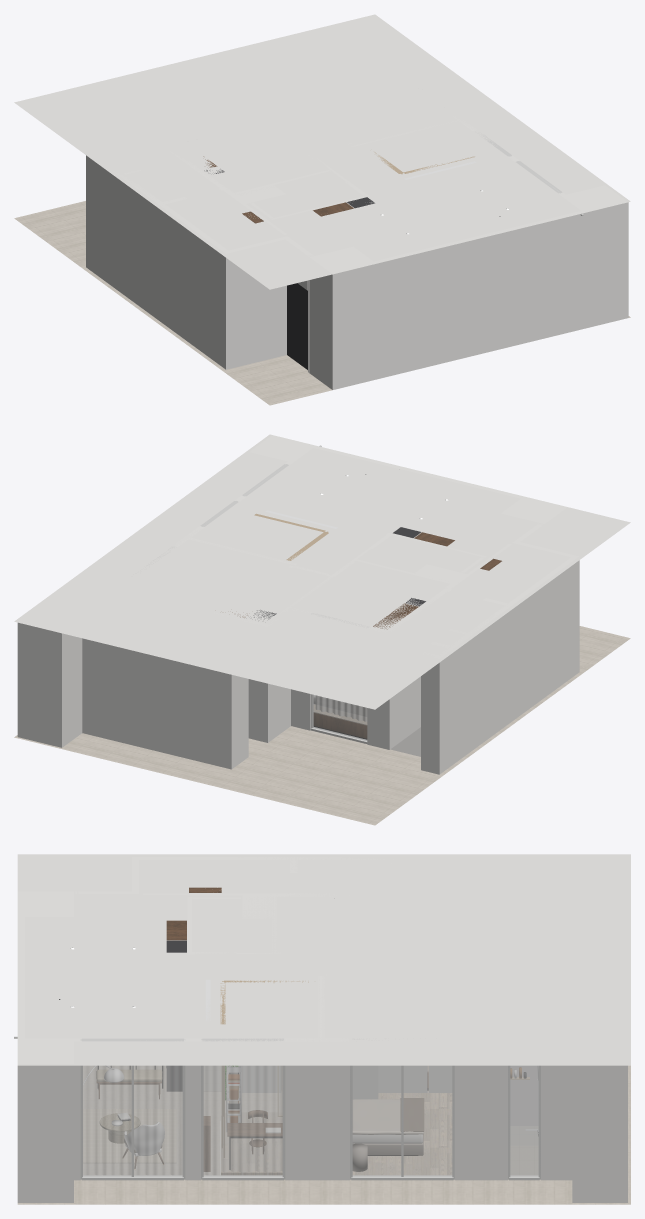
File: apartment_lm-SxJSZVcm.glb
3 renders of one model, top to bottom at view 1: azimuth 30°, elevation 25°; view 2: azimuth 150°, elevation 25°; view 3: azimuth 270°, elevation 25°, orthographic. The views are drawn at different scales.
Parts seen in each view (by area): view 1: ceiling, wall_38, wall_10, wall_36, floor_tile, wall_37, wall_33, door_entrance, wall_34; view 2: ceiling, floor_tile, wall_10, wall_1, wall_0, wall_9, win_bedB_glass, wall_14, wall_6, wall_2, wall_12, wall_36 (+6 smaller); view 3: ceiling, floor_tile, win_east3_glass, curtain_east_living, win_east1_glass, wall_37, win_east2_glass, curtain_east_studio, wall_17, wall_0, wall_5, floor_oak_master (+27 smaller).
Boxes of the visible parts, <box> form: ceiling: <box>14,14,630,289</box>; wall_38: <box>374,211,584,379</box>; wall_10: <box>89,158,231,369</box>; wall_36: <box>309,246,376,389</box>; floor_tile: <box>14,201,630,405</box>; wall_37: <box>566,185,628,327</box>; wall_33: <box>229,236,289,368</box>; door_entrance: <box>287,283,307,369</box>; wall_34: <box>558,192,589,328</box>; ceiling: <box>14,434,630,709</box>; floor_tile: <box>14,626,630,825</box>; wall_10: <box>438,555,579,771</box>; wall_1: <box>82,638,234,769</box>; wall_0: <box>17,622,82,747</box>; wall_9: <box>421,652,442,774</box>; win_bedB_glass: <box>313,695,366,740</box>; wall_14: <box>388,588,450,746</box>; wall_6: <box>212,611,270,742</box>; wall_2: <box>230,640,248,766</box>; wall_12: <box>367,626,392,749</box>; wall_36: <box>500,496,567,524</box>; ceiling: <box>17,854,630,1065</box>; floor_tile: <box>17,1065,630,1204</box>; win_east3_glass: <box>83,1066,182,1176</box>; curtain_east_living: <box>83,1066,182,1174</box>; win_east1_glass: <box>353,1066,451,1176</box>; wall_37: <box>17,1041,73,1202</box>; win_east2_glass: <box>204,1066,282,1176</box>; curtain_east_studio: <box>204,1066,282,1174</box>; wall_17: <box>285,1038,349,1180</box>; wall_0: <box>572,1065,627,1202</box>; wall_5: <box>454,1039,507,1180</box>; floor_oak_master: <box>352,1093,452,1175</box>.
Size of the model in its own units: 9.79 by 3 by 12.09.
100 materials, 19 textured.
